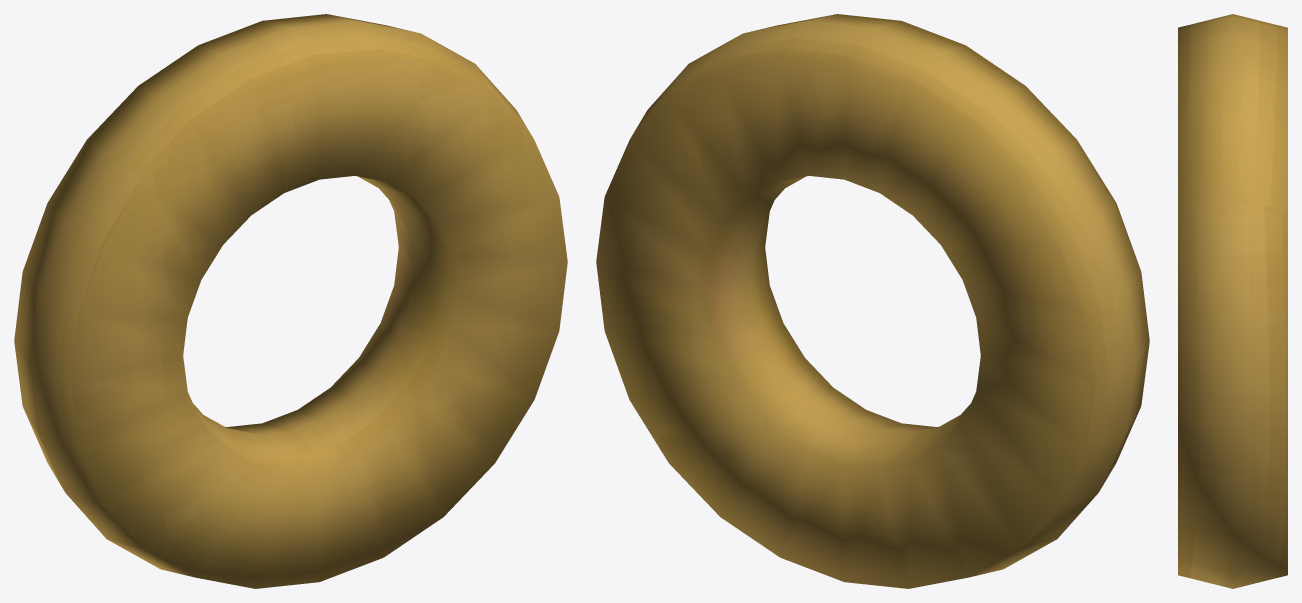
File: hud_eyelet.glb
The picture shows the model from 3 angles, left to right: view 1: azimuth 30°, elevation 25°; view 2: azimuth 150°, elevation 25°; view 3: azimuth 270°, elevation 25°; orthographic projection. The views are drawn at different scales.
Parts seen in each view (by area): view 1: prop_hud_eyelet_felt; view 2: prop_hud_eyelet_felt; view 3: prop_hud_eyelet_felt.
Boxes of the visible parts, x1,y1,x2,y2 form: prop_hud_eyelet_felt: (14, 14, 567, 588); prop_hud_eyelet_felt: (596, 14, 1149, 588); prop_hud_eyelet_felt: (1178, 14, 1287, 588).
Size of the model in its own units: 0.21 by 0.21 by 0.04.
1 material, 1 textured.
